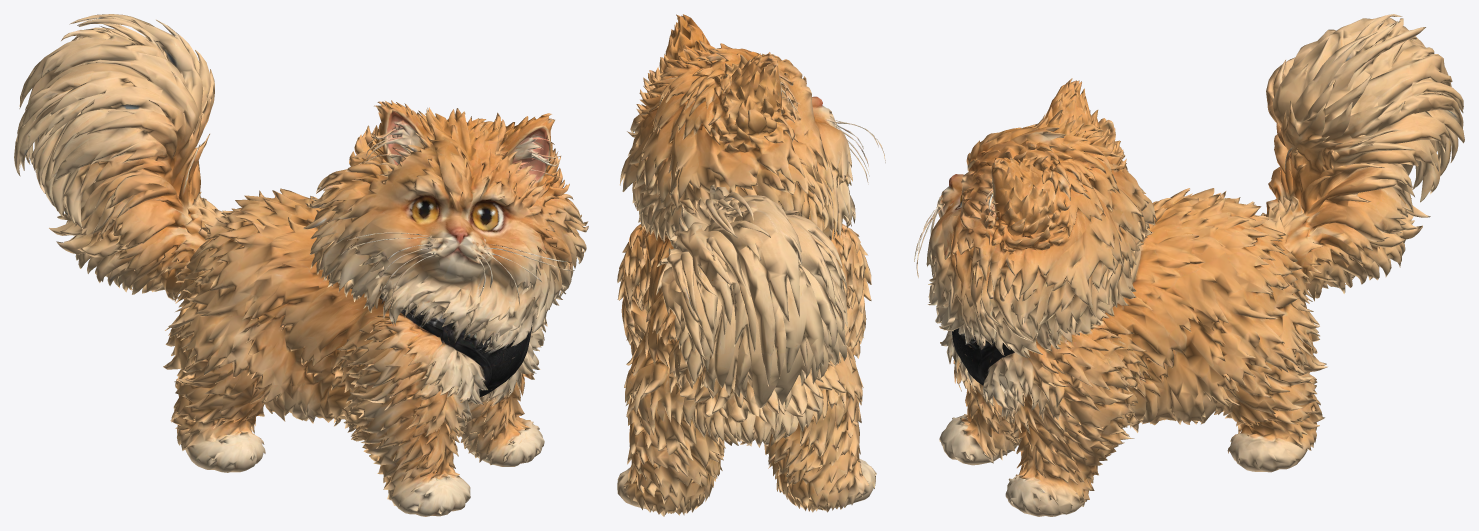
Rendered from whispurr-twin-storybook.glb.
3 views of the same model, side by side, from view 1: azimuth 30°, elevation 25°; view 2: azimuth 150°, elevation 25°; view 3: azimuth 270°, elevation 25° (orthographic).
Size of the model in its own units: 1.54 by 1.43 by 1.9.
Materials: 1 (1 with a texture image).
